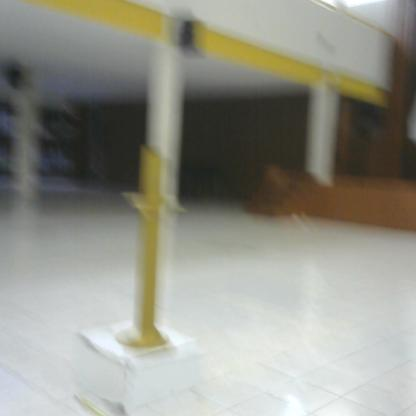pole: (115, 145, 190, 350)
